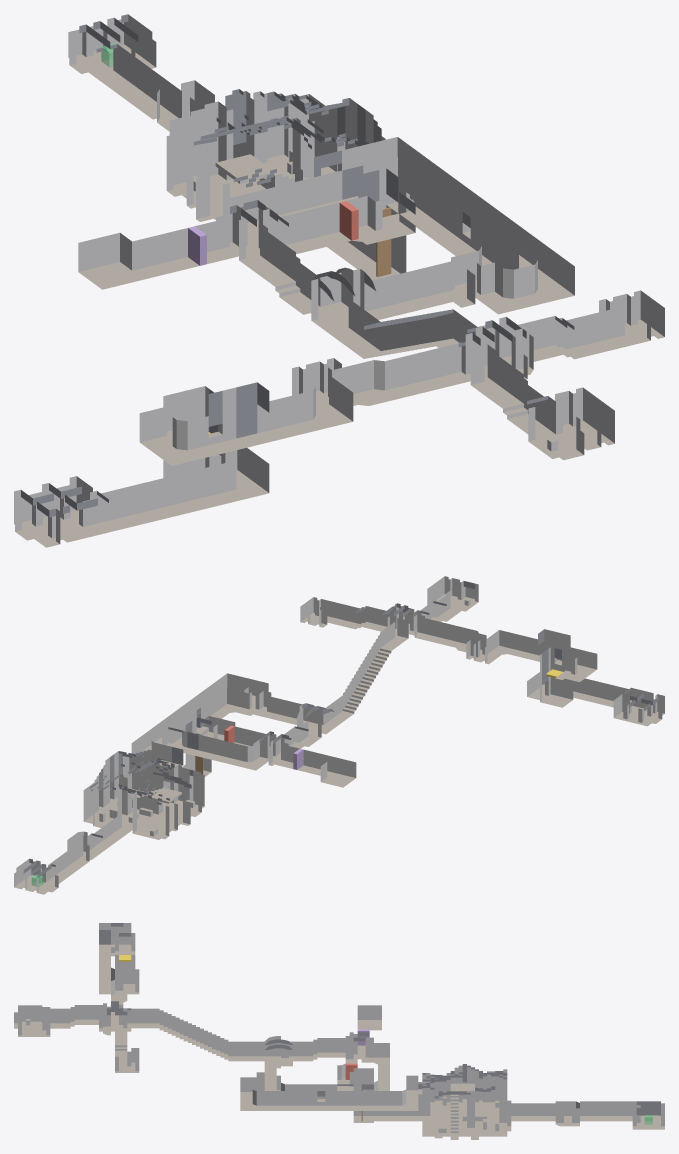
The model's file is underground_1.glb.
The picture shows the model from 3 angles, top to bottom: view 1: azimuth 30°, elevation 25°; view 2: azimuth 150°, elevation 25°; view 3: azimuth 270°, elevation 25°; orthographic projection. The views are drawn at different scales.
Parts seen in each view (by area): view 1: level_geometry; view 2: level_geometry; view 3: level_geometry.
Boxes of the visible parts, box(x1,y1,x2,y2) form: level_geometry: box(14, 14, 664, 547); level_geometry: box(14, 576, 664, 894); level_geometry: box(14, 923, 664, 1139).
Bounding box in the file's own units: 99 × 23 × 161.
